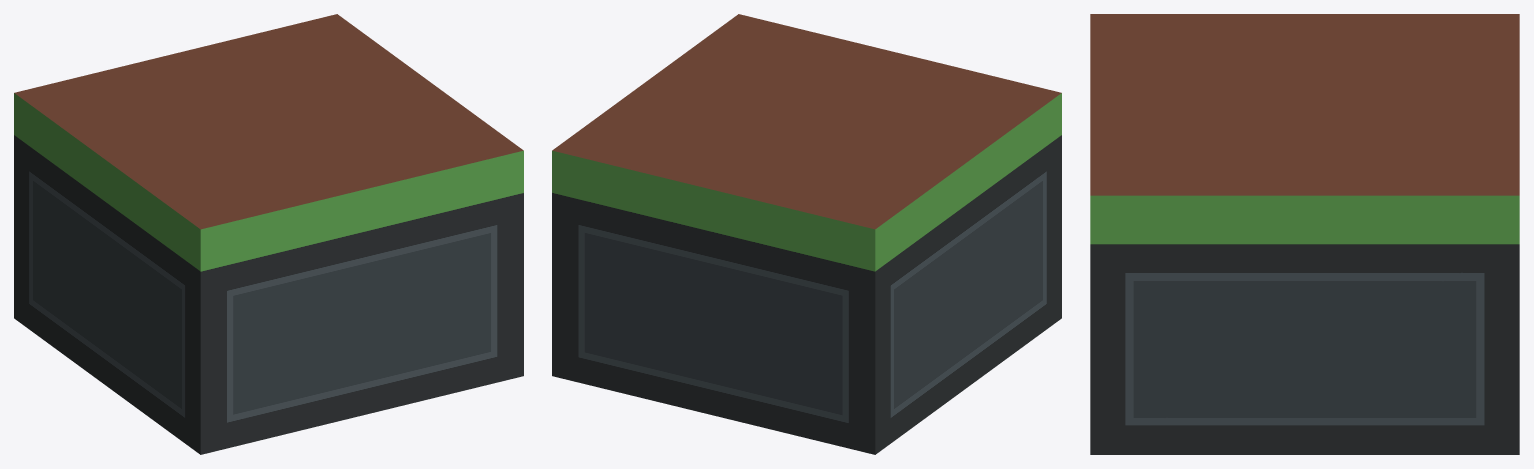
Rendered from wall.fbx.
3 views of the same model, side by side, from view 1: azimuth 30°, elevation 25°; view 2: azimuth 150°, elevation 25°; view 3: azimuth 270°, elevation 25° (orthographic). The views are drawn at different scales.
Visible parts, largest first — view 1: simple-to bake.001; view 2: simple-to bake.001; view 3: simple-to bake.001.
Boxes of the visible parts, left/top/right/bottom form: simple-to bake.001: left=14, top=14, right=523, bottom=454; simple-to bake.001: left=552, top=14, right=1061, bottom=454; simple-to bake.001: left=1090, top=14, right=1519, bottom=454.
Bounding box in the file's own units: 3 × 2 × 3.
3 materials, 1 textured.
